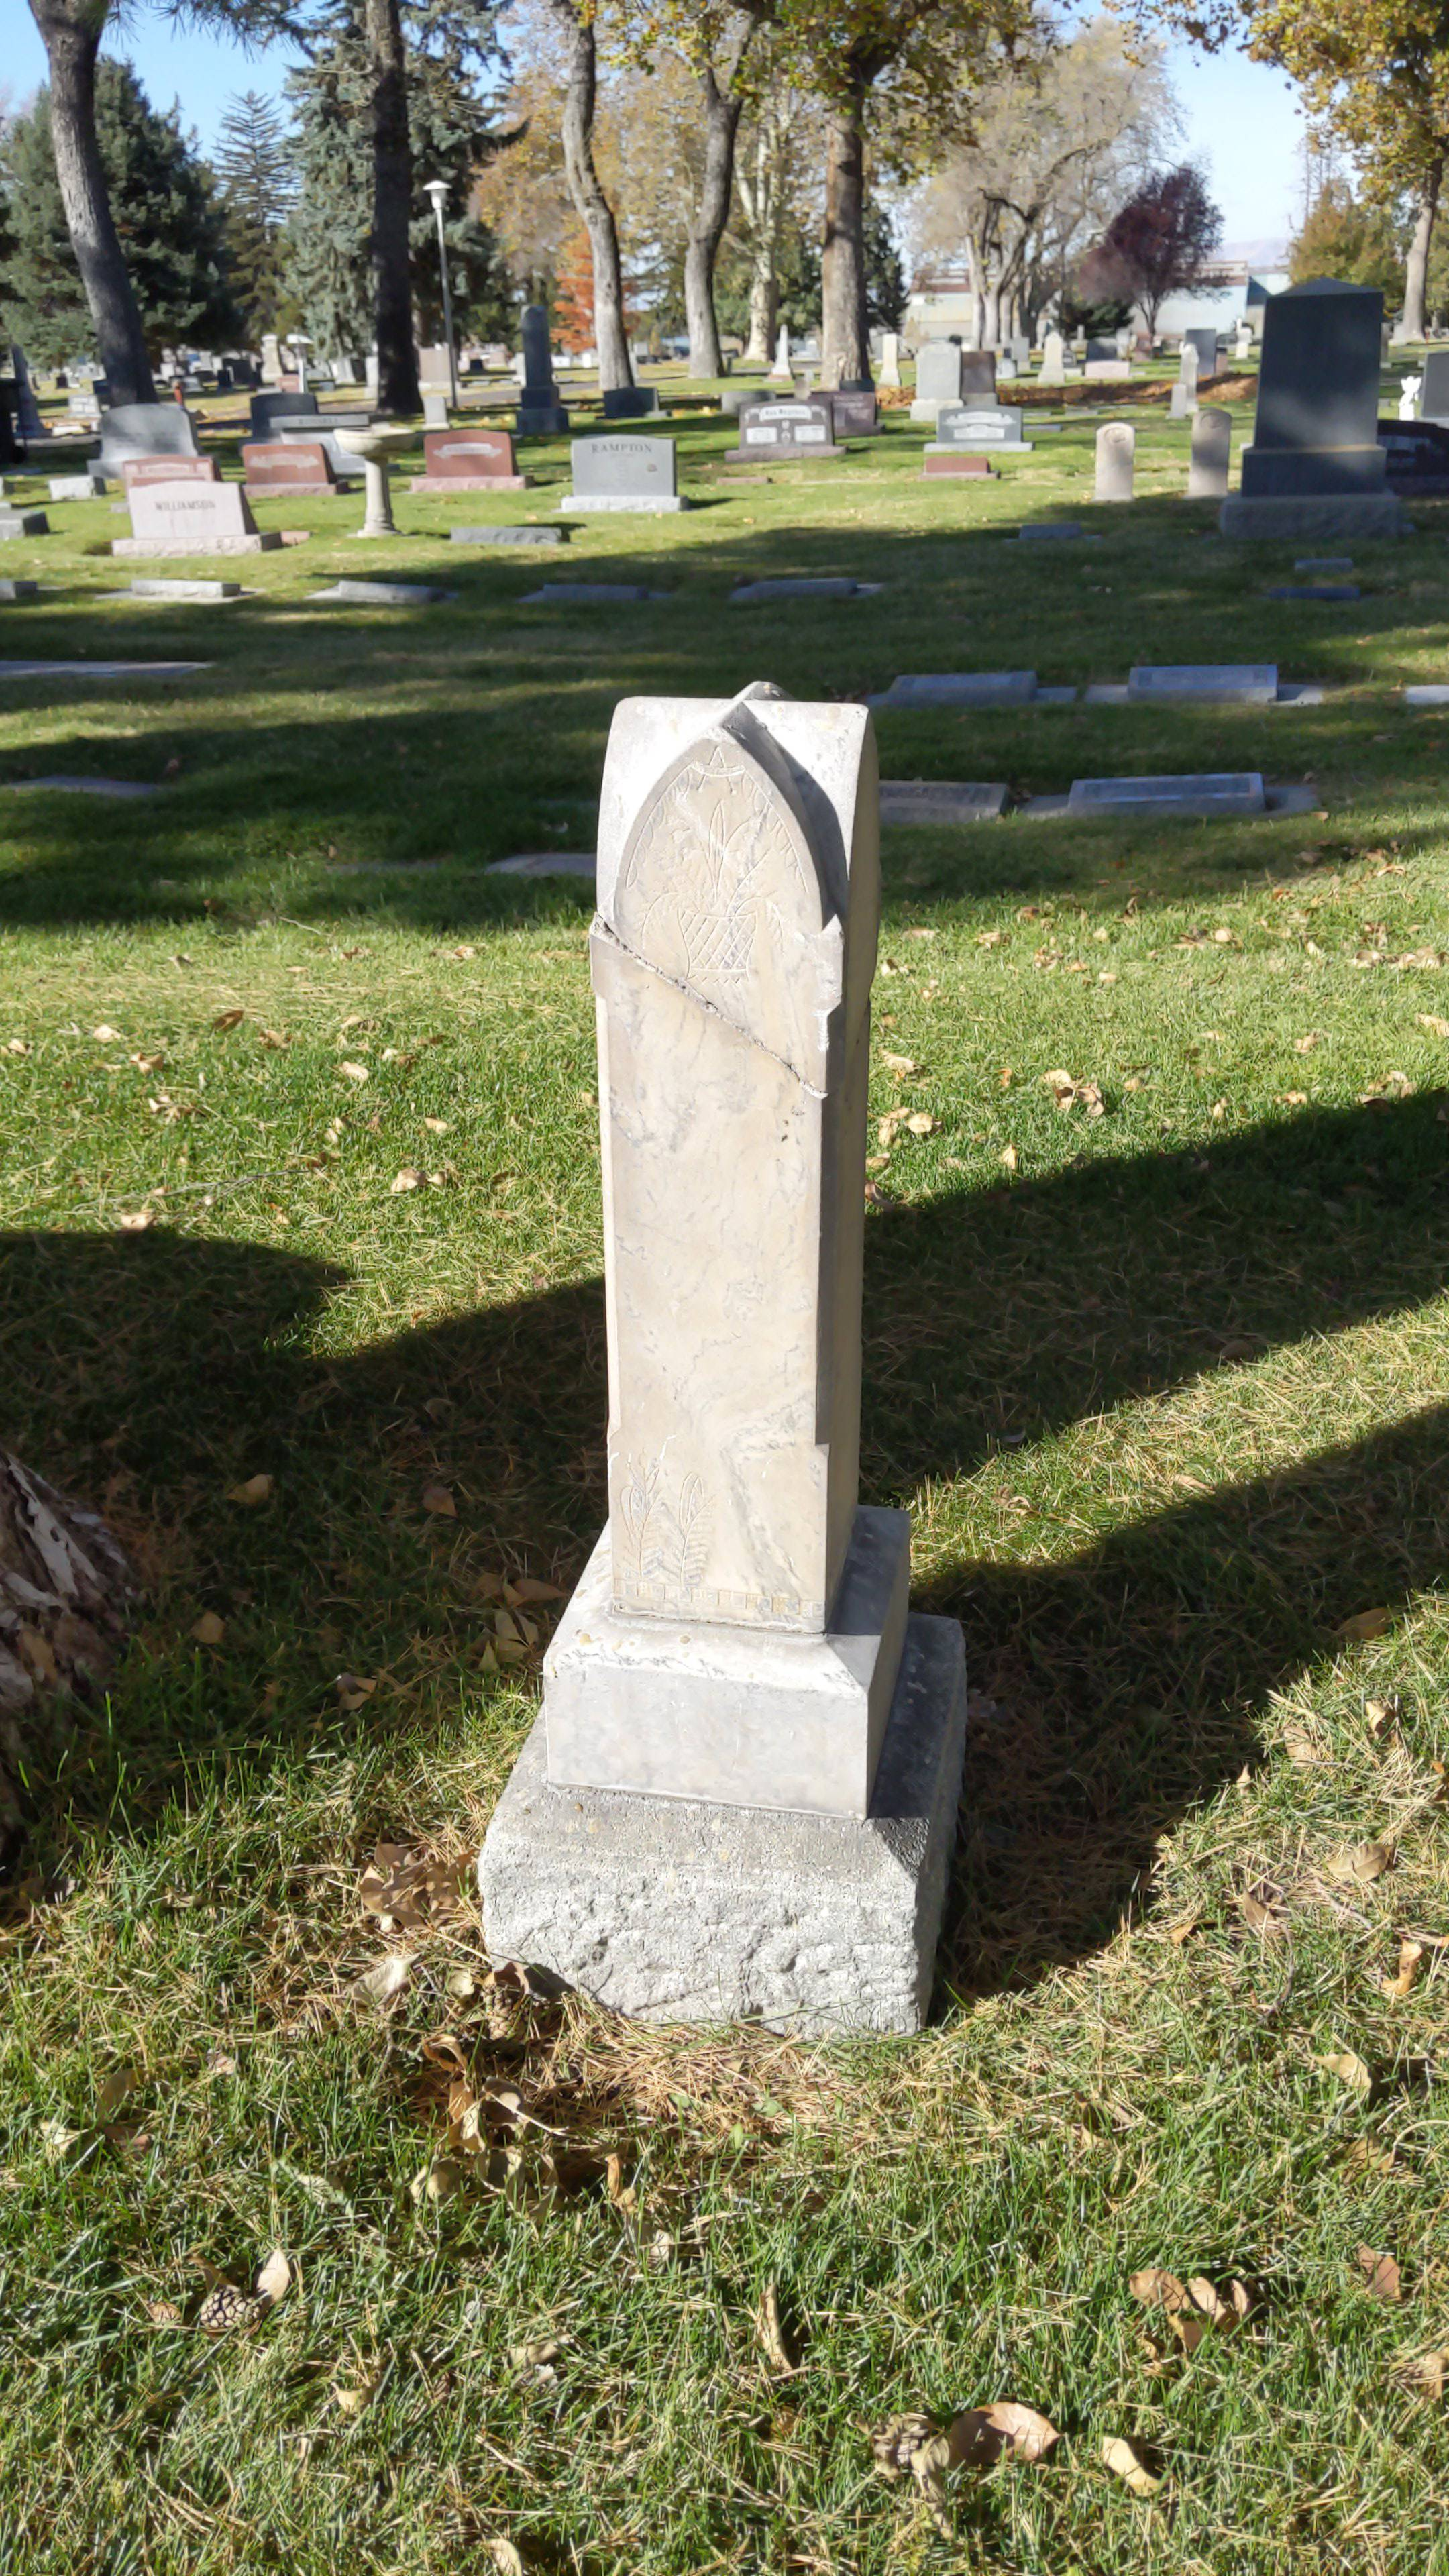obelisk: (543, 704, 902, 1821)
